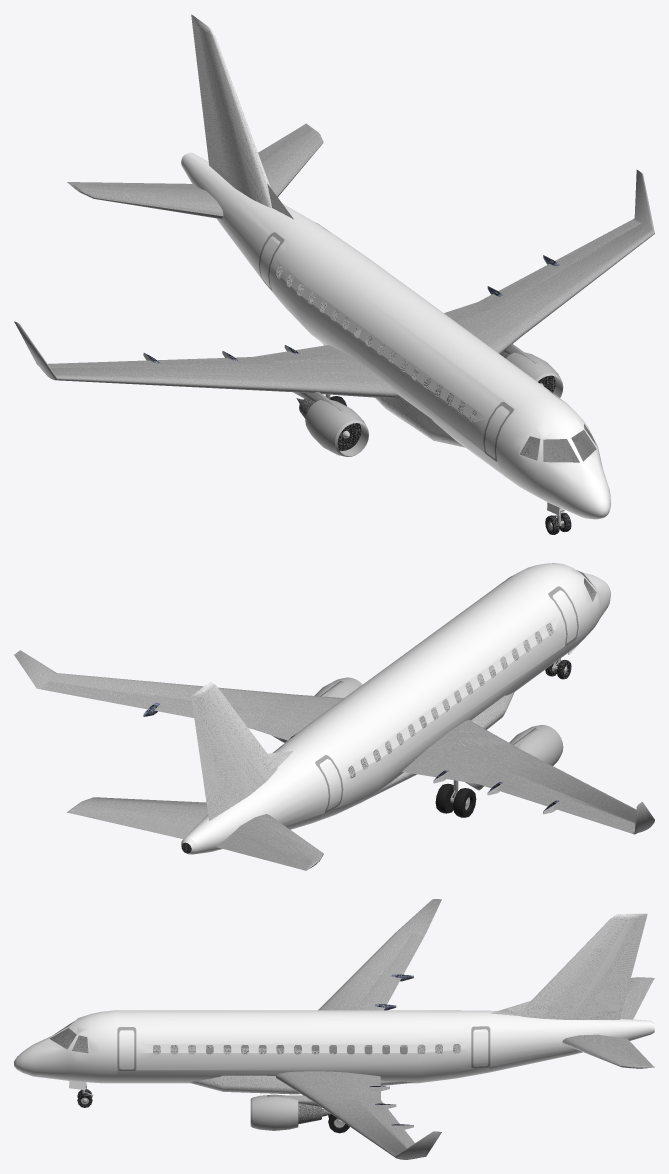
The picture shows the model from 3 angles, top to bottom: view 1: azimuth 30°, elevation 25°; view 2: azimuth 150°, elevation 25°; view 3: azimuth 270°, elevation 25°; orthographic projection. The views are drawn at different scales.
Parts seen in each view (by area): view 1: Component_81 (×2), Component_47 (×2), Component_54, Component_33 (×2), Component_48, Component_55; view 2: Component_81 (×3), Component_47 (×2), Component_33 (×2), Component_54, Component_48 (×2), group_1 (×2), Component_55; view 3: Component_81 (×3), Component_47 (×2), Component_54 (×2), Component_33 (×2), Component_55, Component_48 (×2).
Boxes of the visible parts, x1=… form: Component_81 (×2): x1=181, y1=152, x2=610, y2=519; Component_47 (×2): x1=14, y1=169, x2=654, y2=398; Component_54: x1=191, y1=14, x2=271, y2=207; Component_33 (×2): x1=67, y1=123, x2=323, y2=216; Component_48: x1=305, y1=399, x2=366, y2=455; Component_55: x1=321, y1=328, x2=464, y2=447; Component_81 (×3): x1=181, y1=563, x2=610, y2=854; Component_47 (×2): x1=14, y1=650, x2=654, y2=834; Component_33 (×2): x1=67, y1=797, x2=323, y2=870; Component_54: x1=191, y1=682, x2=277, y2=820; Component_48 (×2): x1=314, y1=677, x2=563, y2=765; group_1 (×2): x1=435, y1=783, x2=476, y2=817; Component_55: x1=369, y1=682, x2=514, y2=798; Component_81 (×3): x1=14, y1=1010, x2=654, y2=1083; Component_47 (×2): x1=276, y1=899, x2=441, y2=1159; Component_54 (×2): x1=519, y1=913, x2=647, y2=1019; Component_33 (×2): x1=562, y1=977, x2=654, y2=1067; Component_55: x1=188, y1=1045, x2=418, y2=1094; Component_48 (×2): x1=252, y1=1094, x2=321, y2=1130.
Size of the model in its own units: 1013 by 1175 by 387.
12 materials, 3 textured.
